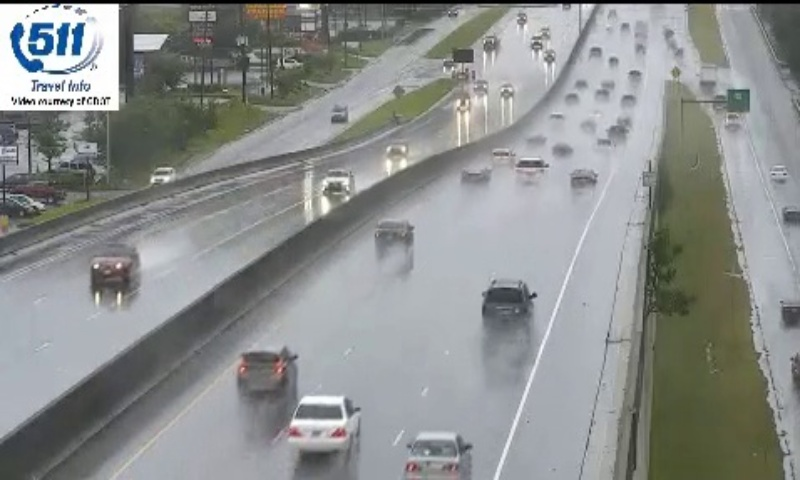car: (287, 394, 358, 453), (406, 430, 468, 478), (237, 346, 296, 394), (482, 280, 532, 325), (376, 219, 411, 249)
